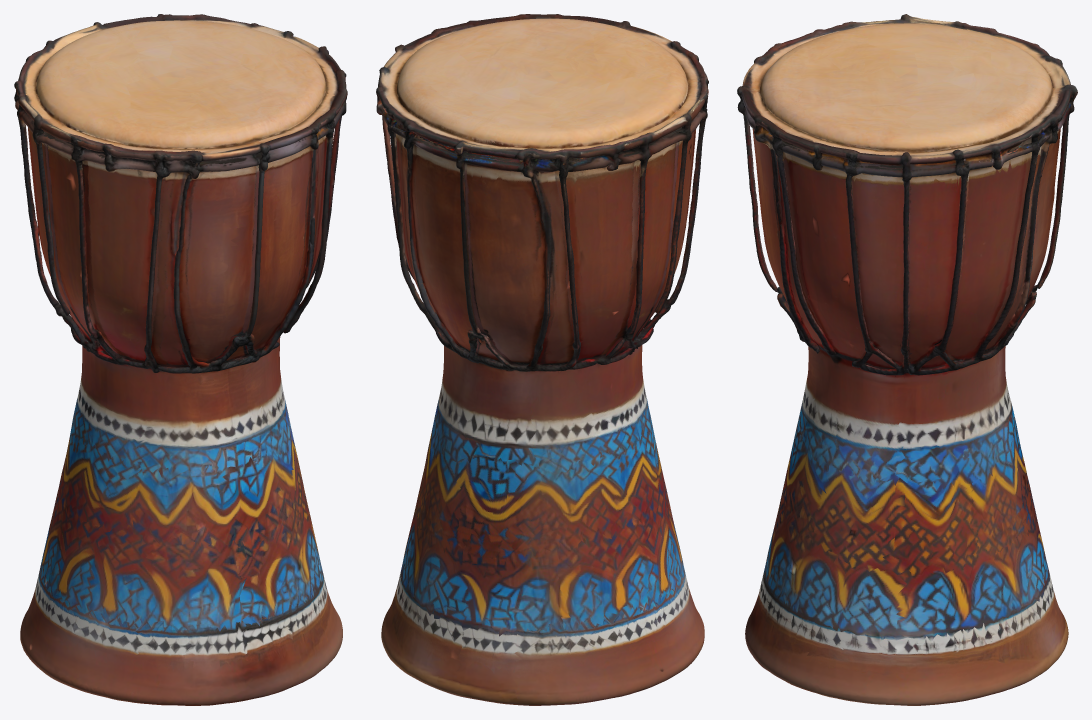
File: alatmusikpapua.glb
3 renders of one model, left to right at view 1: azimuth 30°, elevation 25°; view 2: azimuth 150°, elevation 25°; view 3: azimuth 270°, elevation 25°, orthographic.
Parts seen in each view (by area): view 1: Mesh_0; view 2: Mesh_0; view 3: Mesh_0.
Boxes of the visible parts, left/top/right/bottom form: Mesh_0: left=14, top=14, right=347, bottom=705; Mesh_0: left=376, top=14, right=708, bottom=705; Mesh_0: left=737, top=14, right=1077, bottom=705.
Bounding box in the file's own units: 1.09 × 1.99 × 1.1.
1 material, 1 textured.
